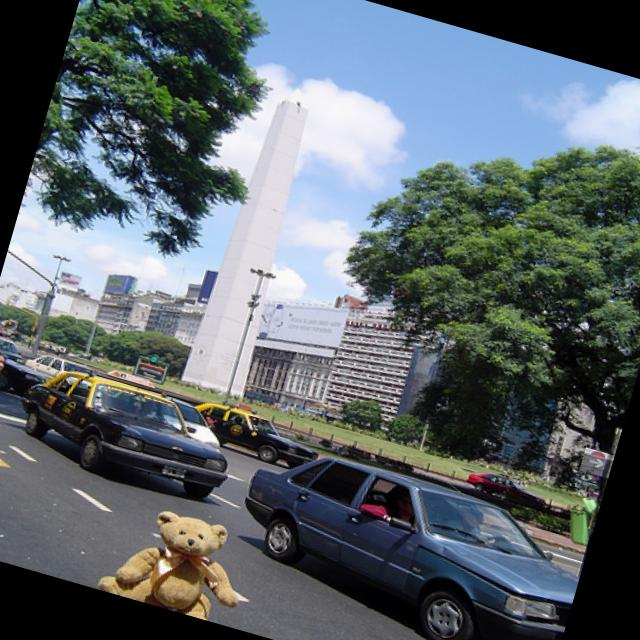Vehicle: (215, 427, 594, 640), (9, 358, 242, 510), (184, 391, 327, 475), (460, 466, 548, 512), (20, 348, 101, 393), (0, 336, 52, 399), (0, 328, 27, 356)
